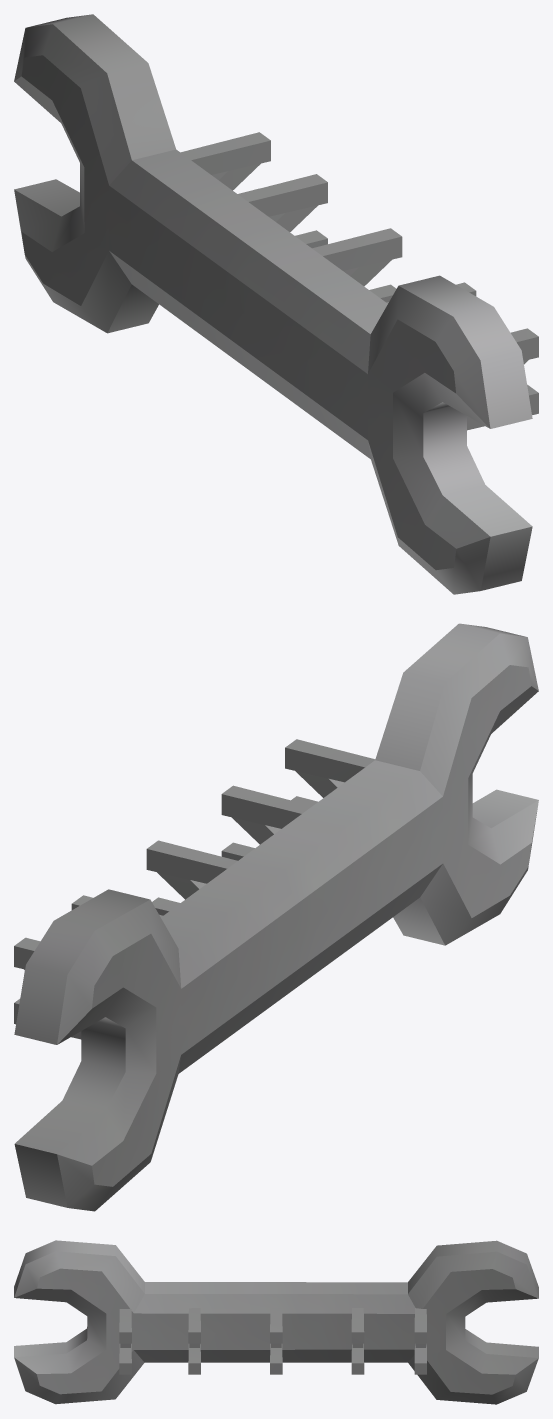
File: FlatWrenchSign_2_A.fbx
3 renders of one model, top to bottom at view 1: azimuth 30°, elevation 25°; view 2: azimuth 150°, elevation 25°; view 3: azimuth 270°, elevation 25°, orthographic. The views are drawn at different scales.
Parts seen in each view (by area): view 1: FlatWrenchSign_2_A; view 2: FlatWrenchSign_2_A; view 3: FlatWrenchSign_2_A.
Boxes of the visible parts, left/top/right/bottom form: FlatWrenchSign_2_A: left=14, top=14, right=538, bottom=594; FlatWrenchSign_2_A: left=14, top=623, right=538, bottom=1211; FlatWrenchSign_2_A: left=14, top=1240, right=538, bottom=1404.
Bounding box in the file's own units: 76.66 × 129 × 401.
